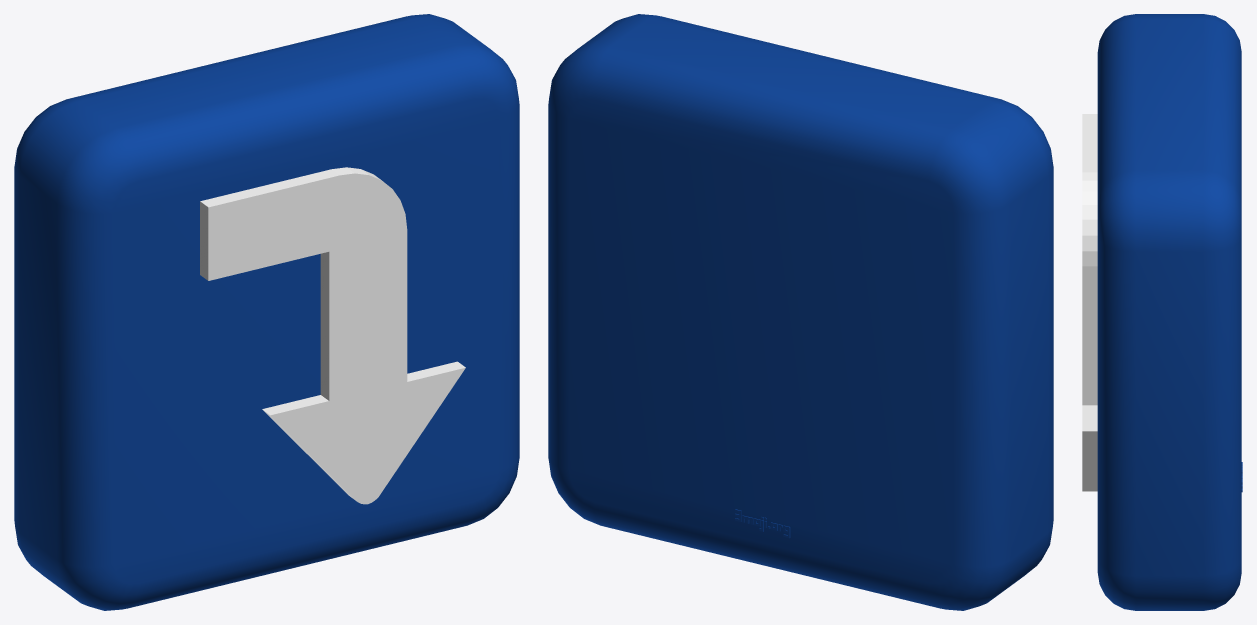
The model's file is right_arrow_curving_down.fbx.
The picture shows the model from 3 angles, left to right: view 1: azimuth 30°, elevation 25°; view 2: azimuth 150°, elevation 25°; view 3: azimuth 270°, elevation 25°; orthographic projection. The views are drawn at different scales.
Parts seen in each view (by area): view 1: Cube.6339; view 2: Cube.6339; view 3: Cube.6339.
Part boxes in pixels (x1,y1,x2,y2): Cube.6339: (14,14,519,610); Cube.6339: (548,14,1053,610); Cube.6339: (1082,14,1242,610).
Bounding box in the file's own units: 220 × 220 × 73.37.
1 material, 1 textured.
